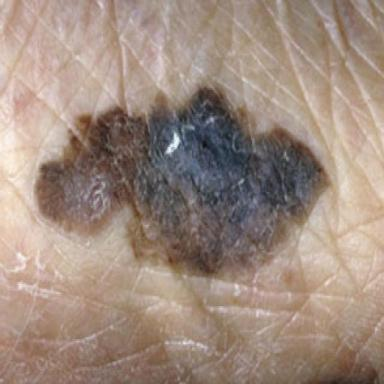Melanoma: (37, 82, 328, 282)
